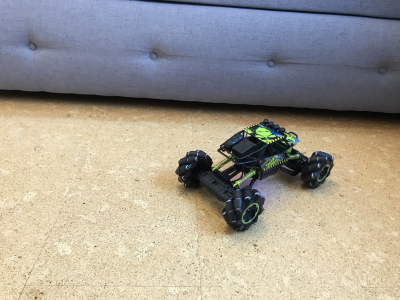remote control car: (173, 114, 336, 234)
